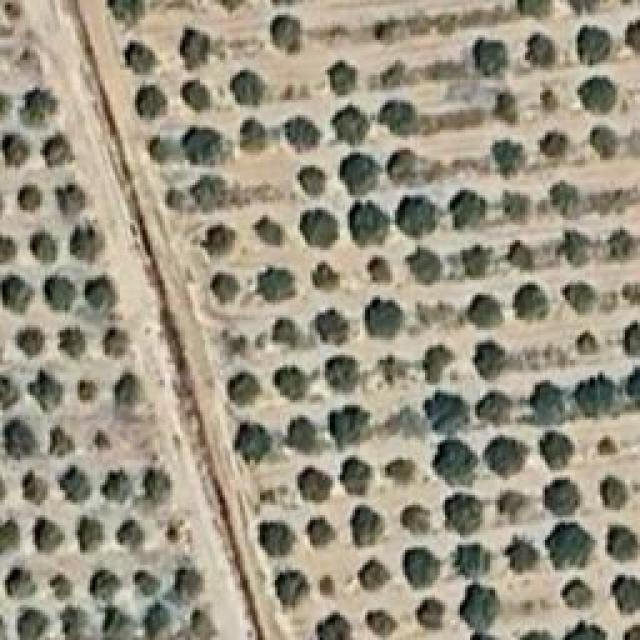Tree: (360, 293, 411, 345), (545, 520, 594, 570), (435, 438, 482, 487), (195, 173, 249, 214), (470, 337, 516, 384), (525, 377, 571, 423), (178, 125, 232, 164), (487, 135, 532, 181), (337, 150, 383, 195), (275, 113, 323, 156), (252, 265, 299, 308), (422, 390, 469, 433), (348, 500, 390, 548), (295, 202, 339, 247), (461, 585, 504, 631), (347, 203, 394, 245), (575, 375, 617, 422), (267, 360, 312, 403), (443, 487, 485, 533), (453, 535, 494, 582), (376, 90, 418, 135), (578, 73, 617, 121), (139, 597, 182, 640), (488, 436, 532, 478), (5, 420, 45, 466), (28, 363, 67, 410), (170, 553, 208, 601), (398, 193, 440, 236), (473, 36, 514, 80), (543, 473, 581, 520), (475, 388, 517, 430), (398, 543, 439, 586), (248, 210, 289, 253), (30, 512, 69, 557), (235, 423, 277, 464), (464, 288, 506, 329), (548, 178, 587, 222), (15, 465, 52, 511), (405, 245, 445, 287), (331, 103, 374, 142), (558, 575, 597, 618), (83, 272, 119, 318), (328, 403, 368, 444), (498, 185, 539, 225), (323, 353, 361, 396), (0, 565, 38, 608), (388, 148, 428, 188), (578, 28, 617, 69), (560, 228, 599, 269), (223, 368, 264, 407), (420, 340, 457, 383), (133, 83, 173, 122), (225, 68, 264, 108), (310, 308, 349, 348), (233, 115, 271, 156), (255, 523, 295, 561), (563, 278, 603, 316), (45, 423, 85, 461), (20, 86, 58, 126), (208, 273, 249, 310), (340, 454, 376, 496), (540, 428, 575, 471), (460, 235, 498, 274), (385, 453, 424, 491), (293, 460, 333, 497), (398, 503, 439, 539), (513, 283, 551, 321), (43, 275, 82, 312), (58, 463, 93, 504), (142, 132, 174, 176), (108, 518, 149, 552), (523, 30, 560, 67), (350, 553, 389, 588), (55, 605, 94, 640), (175, 23, 209, 63), (610, 573, 640, 618), (328, 58, 366, 93), (128, 567, 167, 601), (85, 568, 120, 605), (68, 227, 106, 261), (55, 325, 89, 363), (285, 415, 315, 458), (360, 250, 393, 289), (603, 523, 637, 560), (120, 40, 159, 72), (40, 132, 75, 167), (450, 190, 485, 225), (72, 373, 106, 409), (295, 165, 331, 198), (275, 13, 308, 49), (107, 0, 151, 27), (505, 538, 538, 574), (180, 77, 214, 111), (272, 570, 305, 605), (100, 325, 134, 358), (602, 227, 635, 261), (200, 223, 233, 257), (0, 273, 28, 313), (158, 183, 188, 219), (138, 465, 168, 501), (375, 352, 407, 385), (304, 255, 338, 286), (268, 315, 299, 349), (53, 186, 88, 216), (365, 605, 395, 640), (15, 607, 46, 640), (318, 610, 352, 640), (98, 465, 128, 498), (89, 421, 118, 455), (505, 233, 532, 269), (14, 325, 44, 357), (568, 617, 609, 640), (490, 93, 520, 124), (600, 478, 631, 508), (113, 367, 141, 400), (33, 230, 60, 264), (500, 485, 527, 519), (73, 512, 100, 546), (303, 515, 333, 545), (18, 180, 45, 212), (3, 130, 28, 164), (593, 125, 618, 158), (520, 0, 561, 20), (573, 328, 600, 358), (98, 607, 123, 639), (410, 595, 434, 628), (0, 517, 20, 556), (48, 567, 70, 601), (567, 0, 605, 19), (0, 232, 20, 268), (540, 128, 566, 155), (3, 373, 21, 412), (620, 320, 640, 355), (593, 433, 618, 461), (622, 278, 640, 308), (625, 18, 640, 53), (627, 367, 640, 404), (315, 575, 336, 597), (623, 625, 640, 639)
